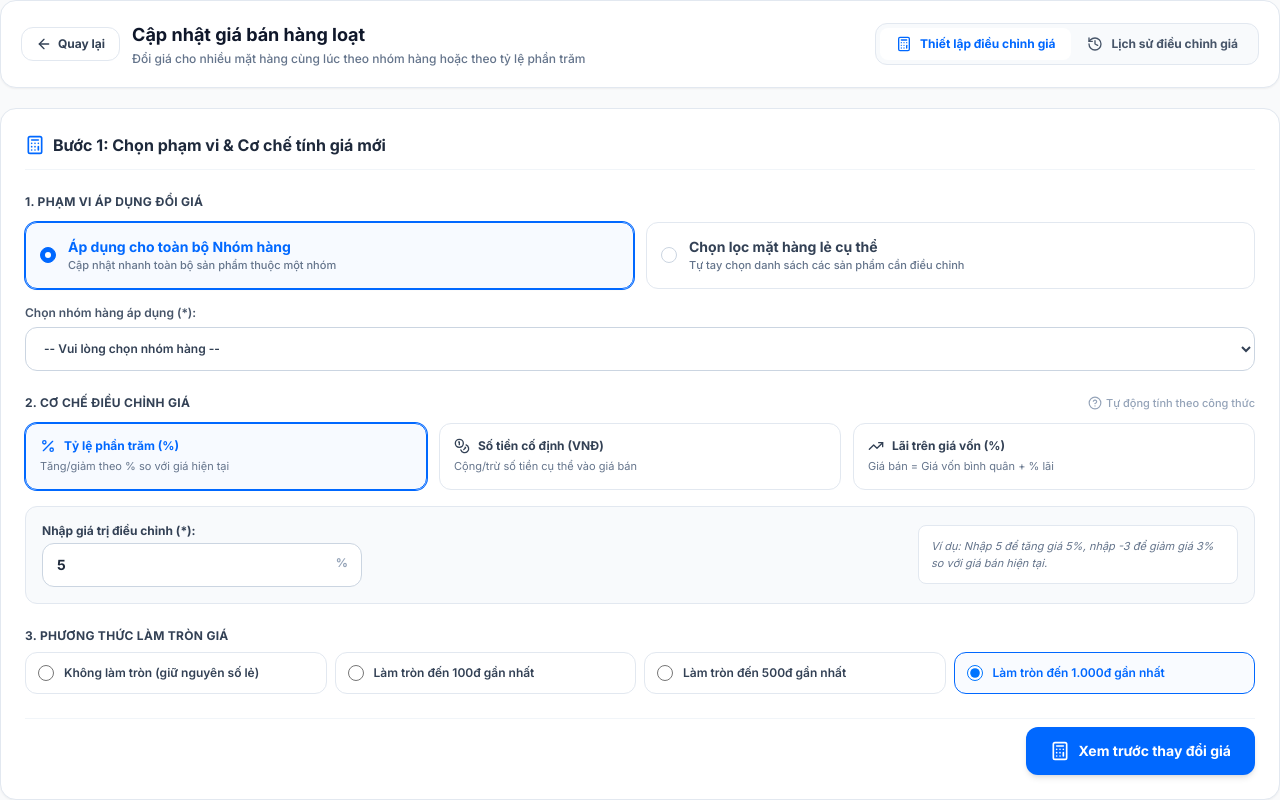
it: NCL-02-CN-009: PriceAdjustmentPage & Integration Tests › Chặn hoàn tác khi đợt điều chỉnh giá đã hoàn tác hoặc quá thời hạn 24 giờ (canRevert: false)
Click the button "Lịch sử điều chỉnh giá" at (1163, 44), box [1072,28,1254,60]
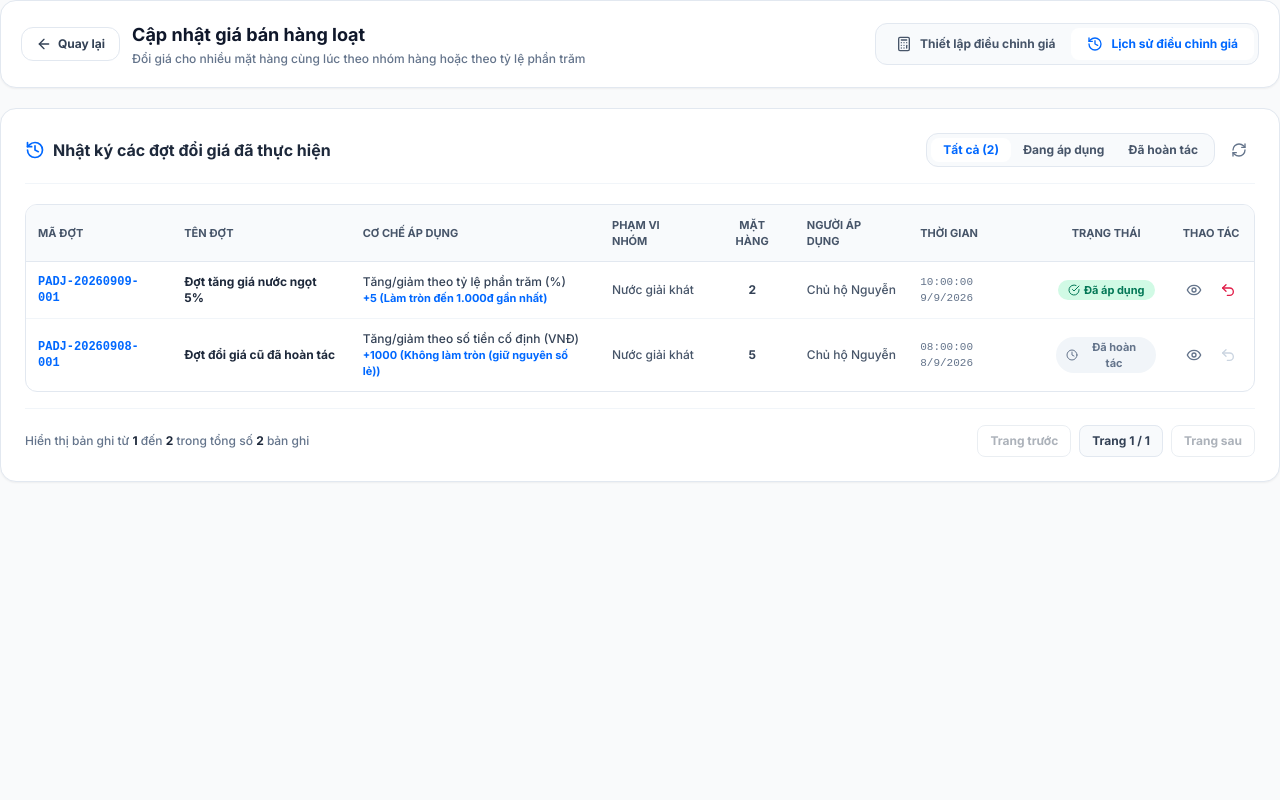
Result: the text "PADJ-20260908-001" is shown at [26,318,172,391]
Result: the text "Đợt đổi giá cũ đã hoàn tác" is shown at [172,318,351,391]
Result: the element titled "Đợt điều chỉnh này đã được hoàn tác trước đó" is shown at [1220,347,1236,363]
